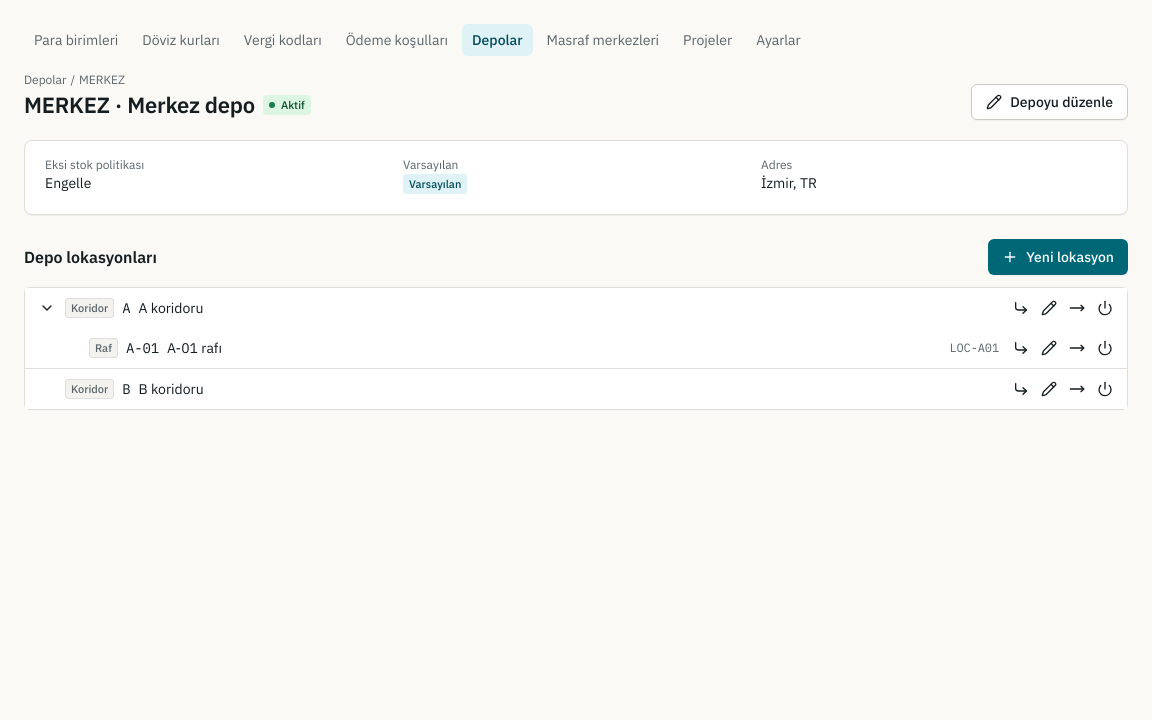
Scenario: WarehouseDetailPage › adds a child location under a node
The image size is (1152, 720).
Click the button named "A koridoru altına lokasyon ekle" at (1021, 308), box [1007, 294, 1035, 322]
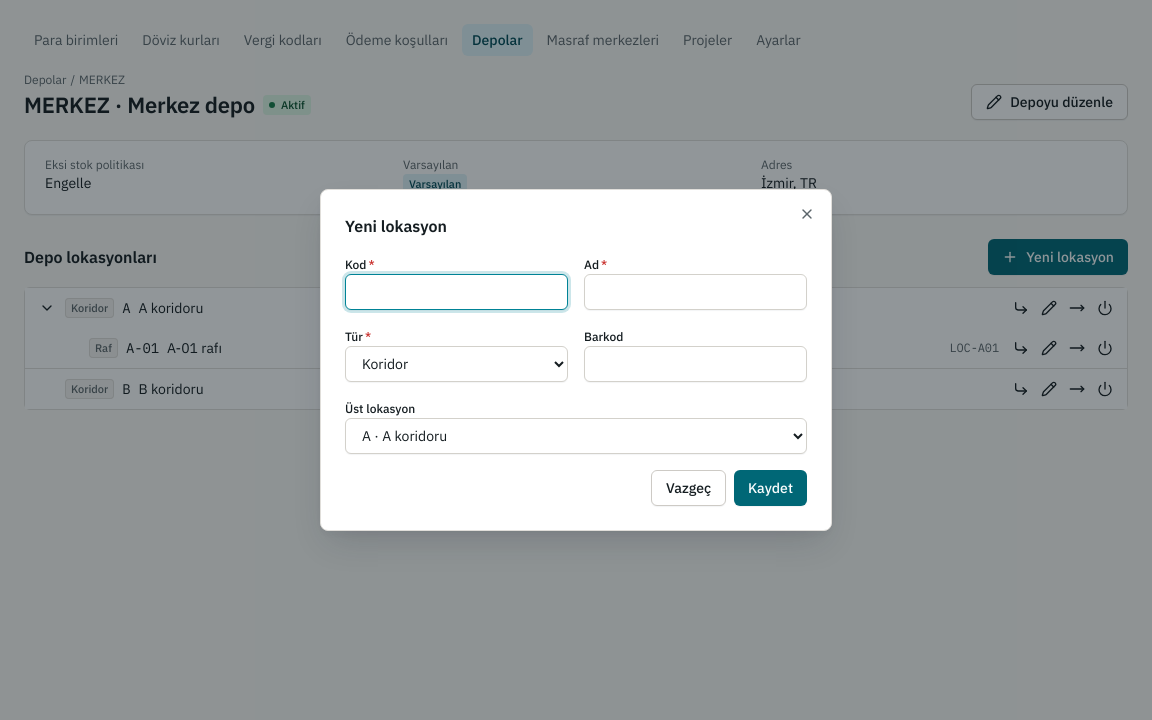
Result: the dropdown labelled "Üst lokasyon" shows "A · A koridoru" at [345, 418, 807, 454]
Type "a-02" into the field labelled "Kod*" at (456, 292), box [345, 274, 568, 310]
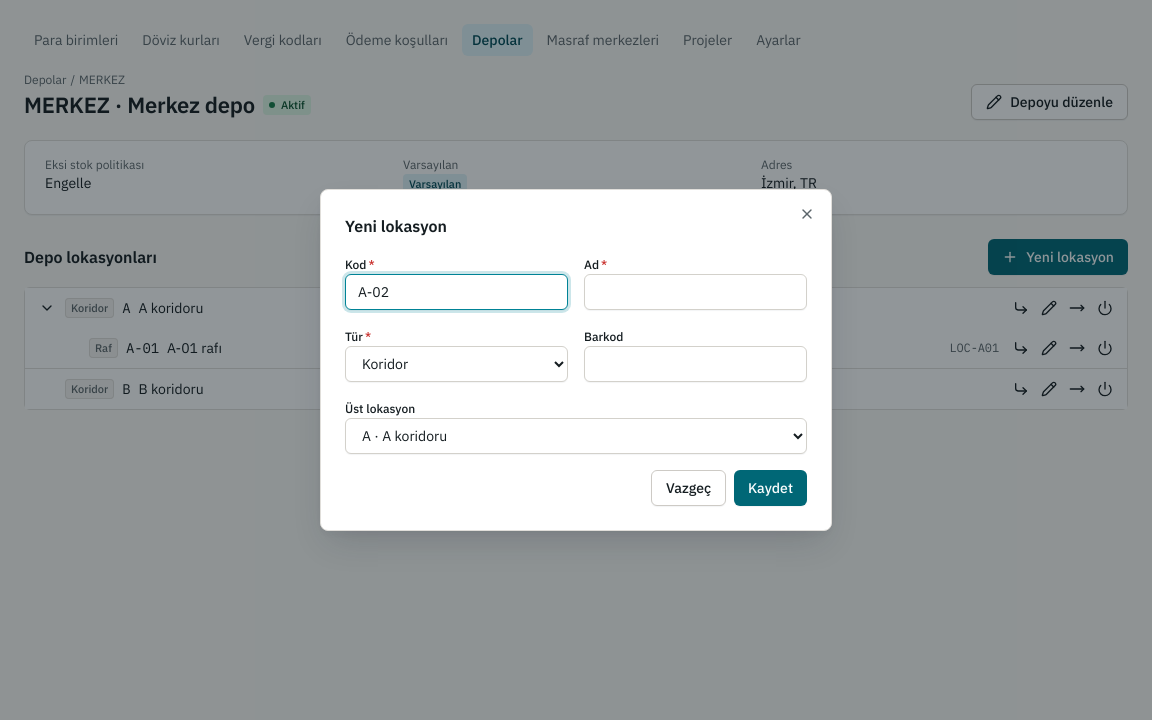
Type "A-02 rafı" into the field labelled "Ad*" at (696, 292), box [584, 274, 807, 310]
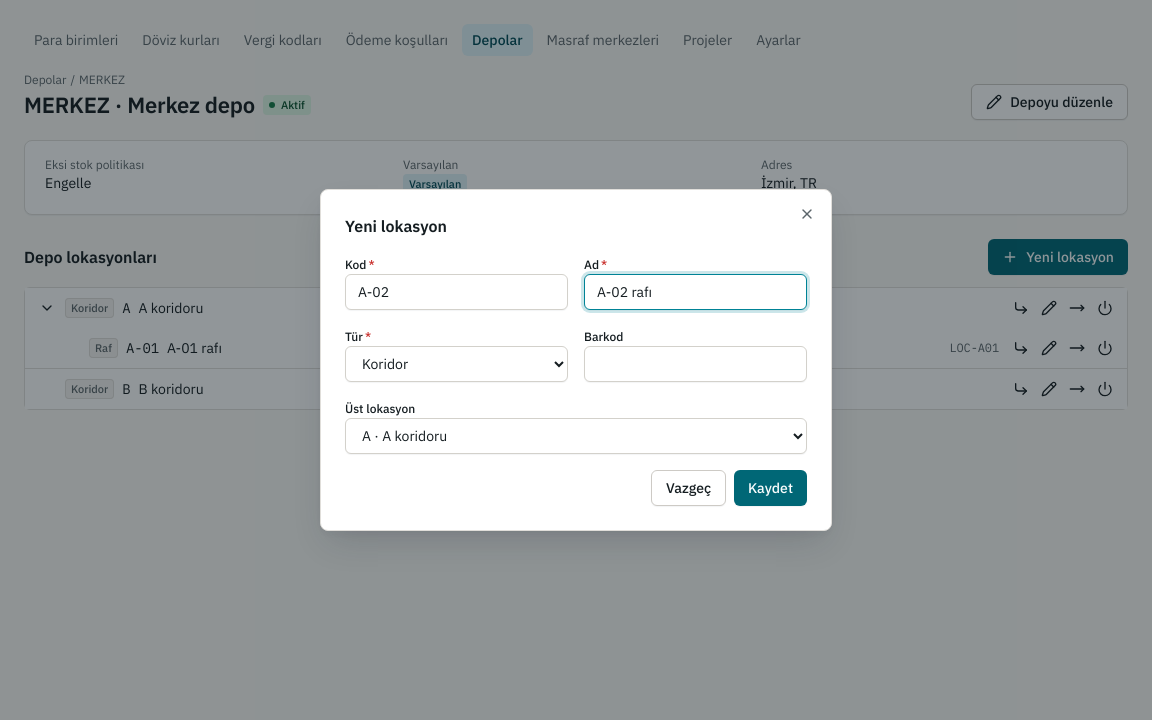
Select "Raf" in the dropdown labelled "Tür*" at (456, 364), box [345, 346, 568, 382]
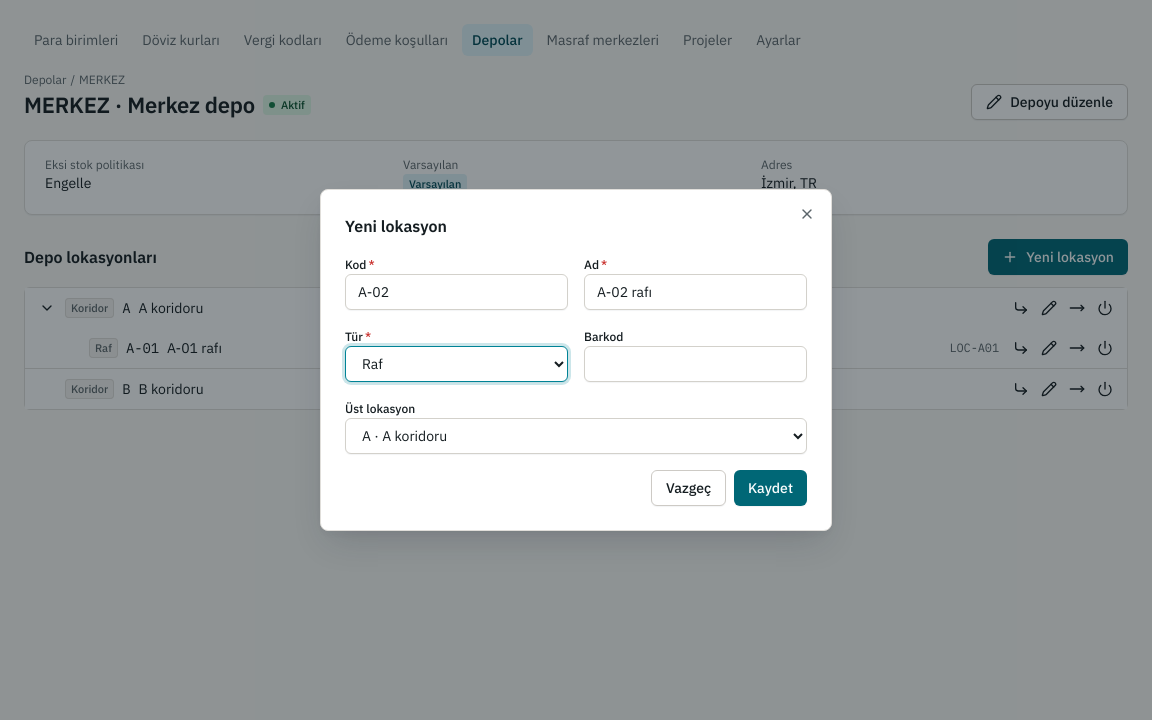
Click the button "Kaydet" at (771, 488), box [734, 470, 807, 506]
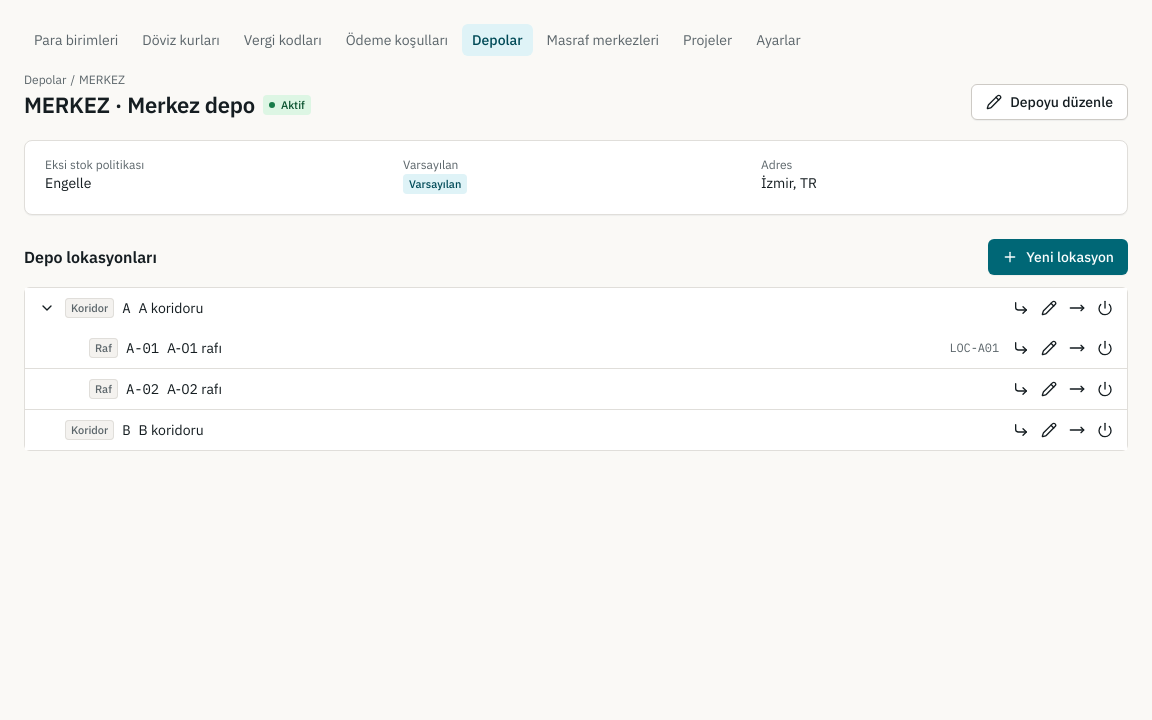
Result: the dialog is gone
Result: the text "A-02 rafı" is shown at [167, 380, 222, 398]
